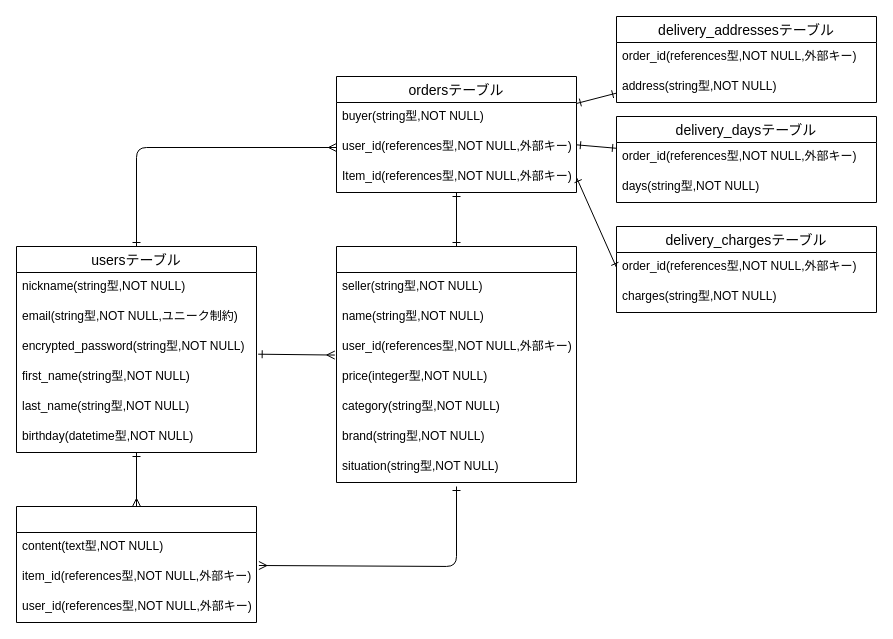
This 893x639 diagram has some shape labels left out. Each missing label, with the box of its shape:
commentsテーブル: (16, 506, 256, 622)
itemsテーブル: (336, 246, 576, 482)
